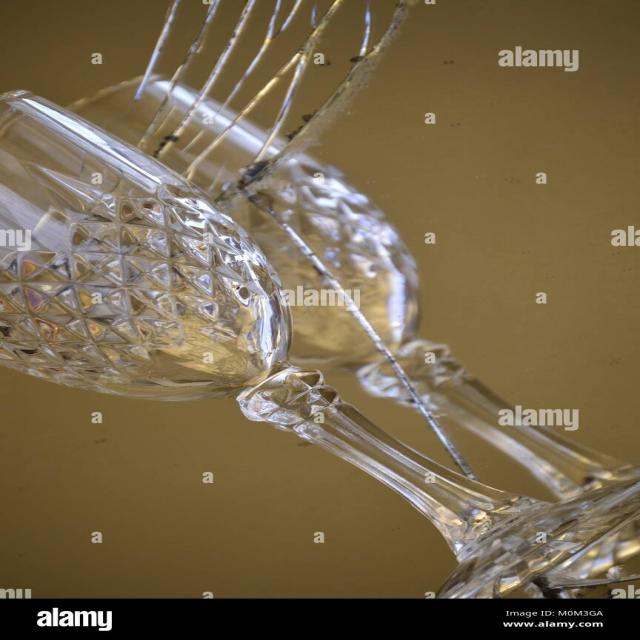Dry Waste: (0, 91, 279, 401)
